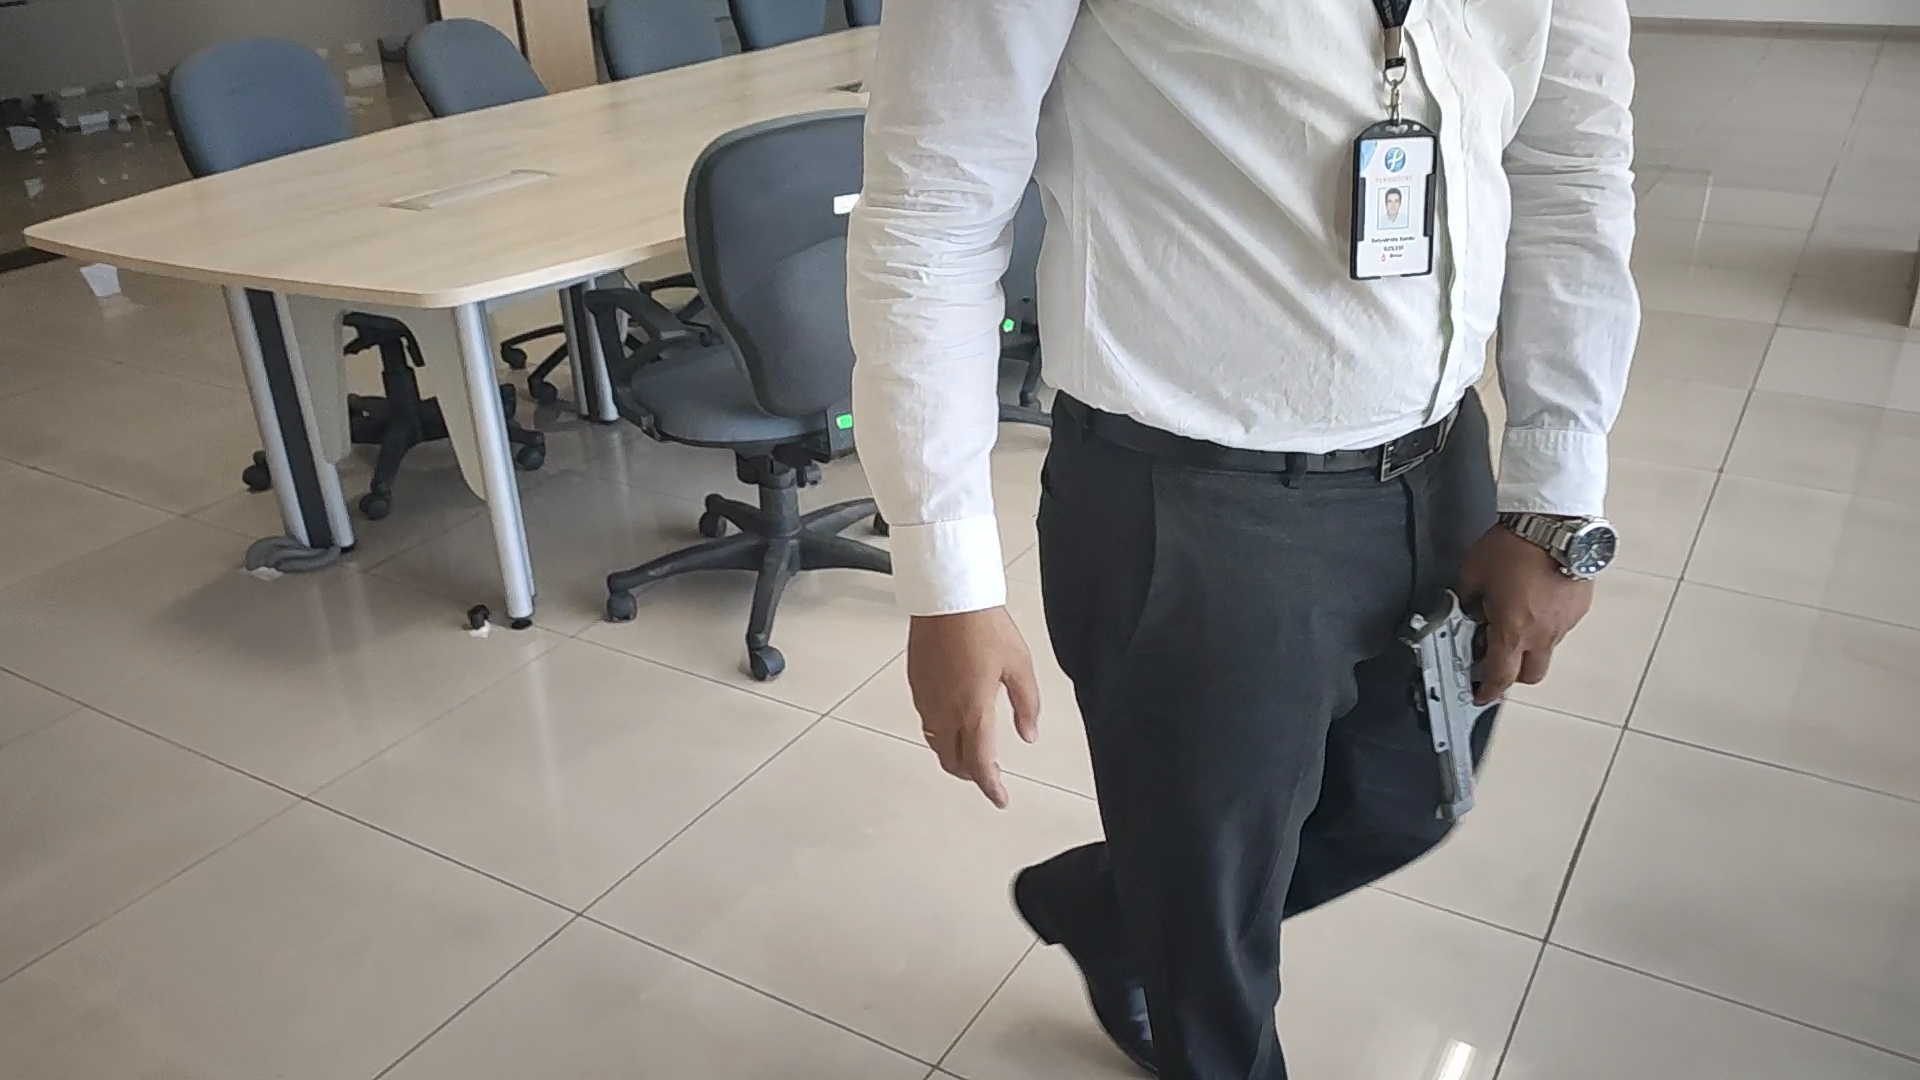gun: (1398, 584, 1490, 819)
